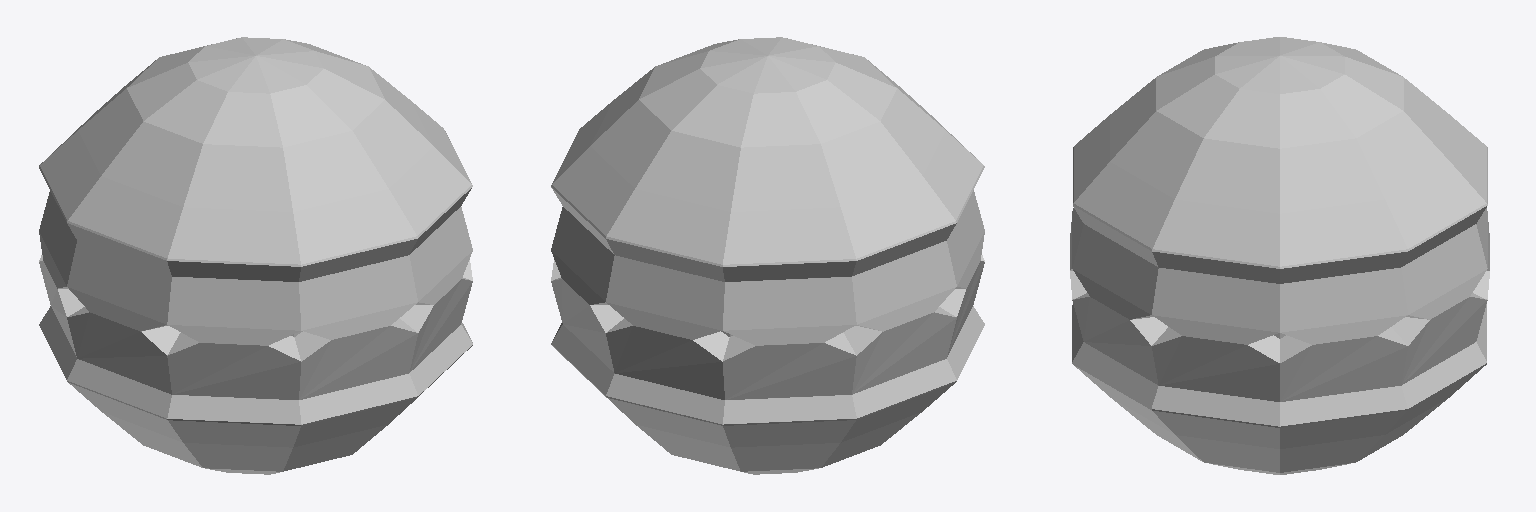
File: Range1.obj
3 renders of one model, left to right at view 1: azimuth 30°, elevation 25°; view 2: azimuth 150°, elevation 25°; view 3: azimuth 270°, elevation 25°, orthographic.
Visible parts, largest first — view 1: Drone_Basic_Body:pSphere1; view 2: Drone_Basic_Body:pSphere1; view 3: Drone_Basic_Body:pSphere1.
Boxes of the visible parts, x1,y1,x2,y2 form: Drone_Basic_Body:pSphere1: [39, 37, 472, 474]; Drone_Basic_Body:pSphere1: [551, 37, 984, 474]; Drone_Basic_Body:pSphere1: [1070, 37, 1489, 474].
Bounding box in the file's own units: 419 × 424 × 403.